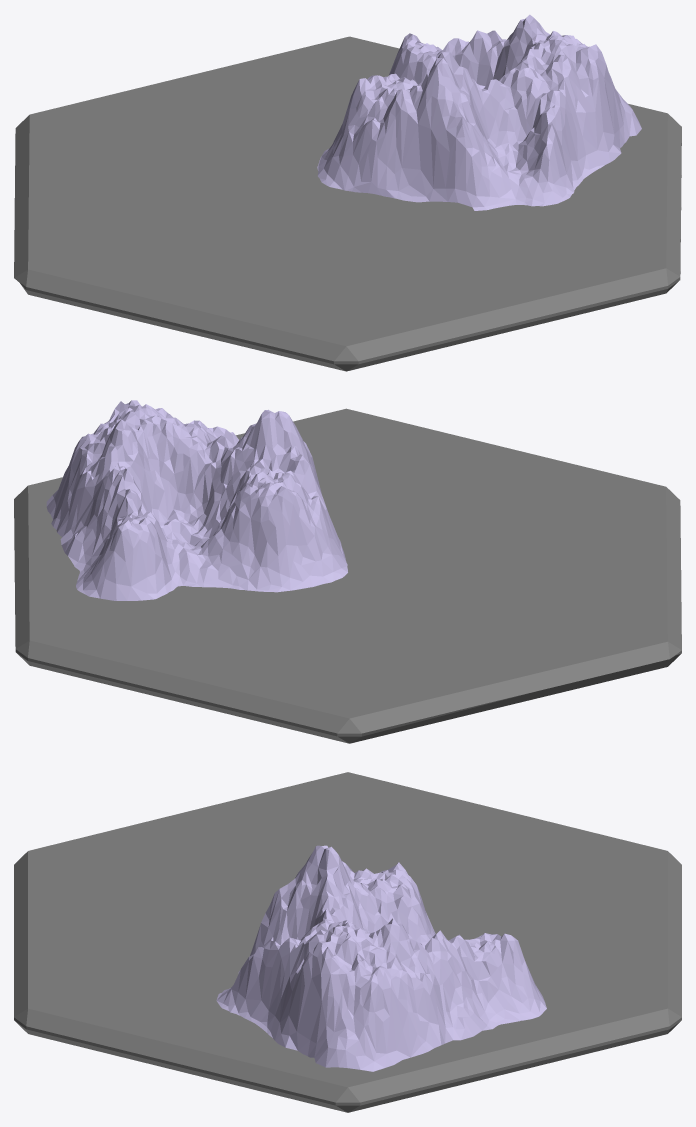
File: hexaBerg.fbx
The picture shows the model from 3 angles, top to bottom: view 1: azimuth 30°, elevation 25°; view 2: azimuth 150°, elevation 25°; view 3: azimuth 270°, elevation 25°; orthographic projection.
Parts seen in each view (by area): view 1: Cylinder.001; view 2: Cylinder.001; view 3: Cylinder.001.
Boxes of the visible parts, left/top/right/bottom form: Cylinder.001: left=14, top=14, right=681, bottom=371; Cylinder.001: left=14, top=400, right=681, bottom=743; Cylinder.001: left=14, top=772, right=681, bottom=1112.
Bounding box in the file's own units: 115 × 24.98 × 100.
Materials: 2 (2 with a texture image).
